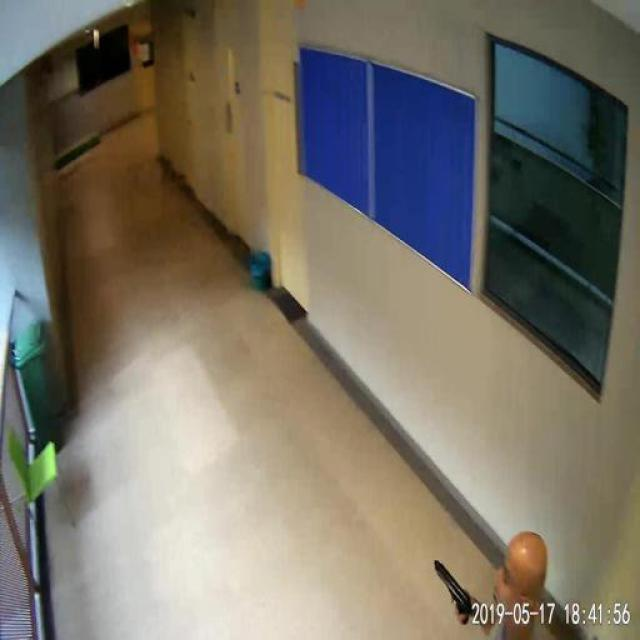weapon: (432, 560, 478, 627)
